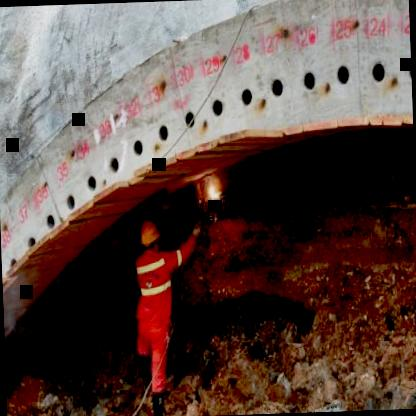helmet: (138, 219, 162, 253)
